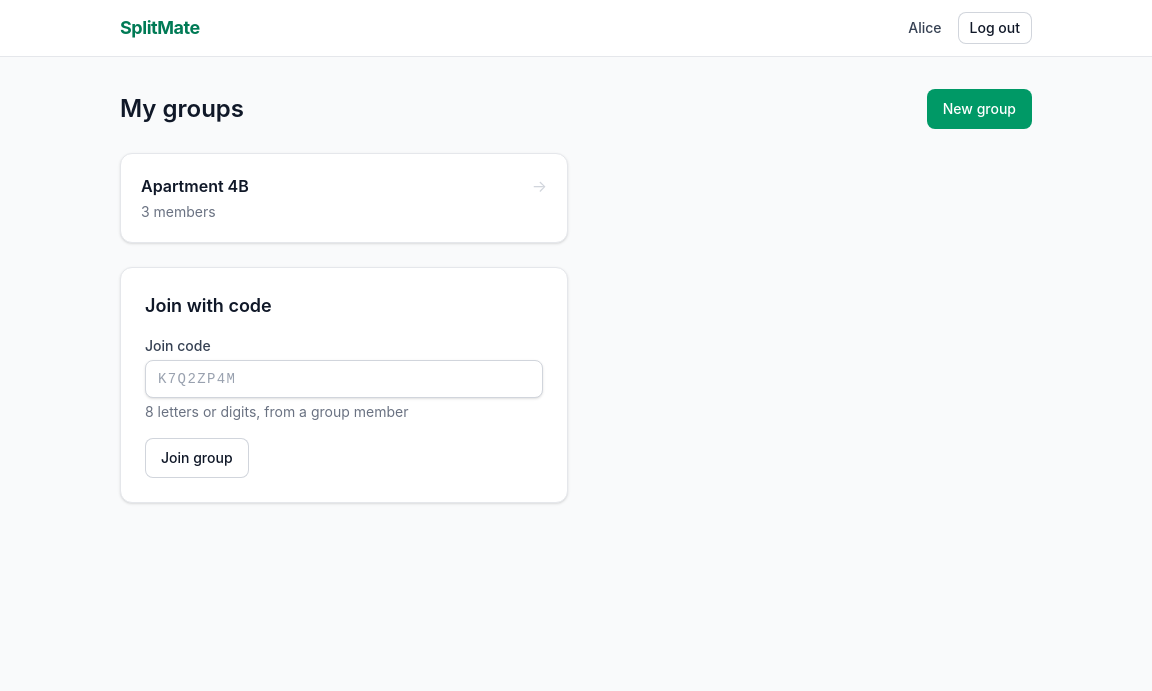
Create group › Cancel closes the form
The width and height of the screenshot is (1152, 691).
Click the button "New group": (979, 109) [927,89,1032,129]
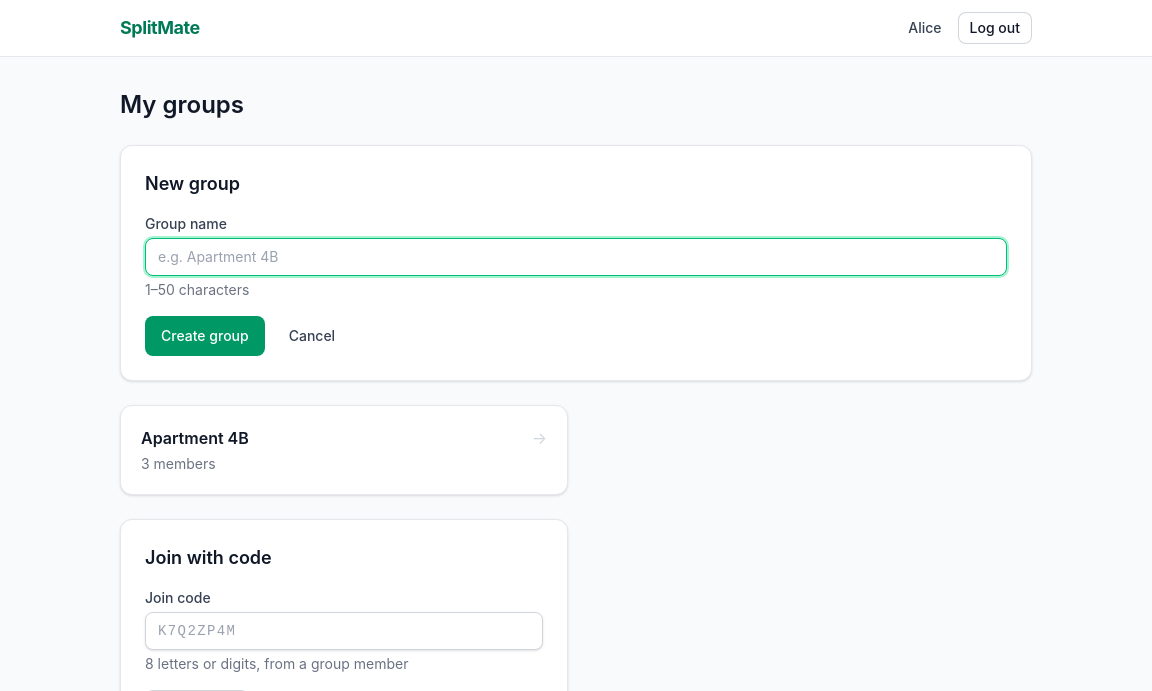
Click the button "Cancel": (312, 336) [273,316,351,356]
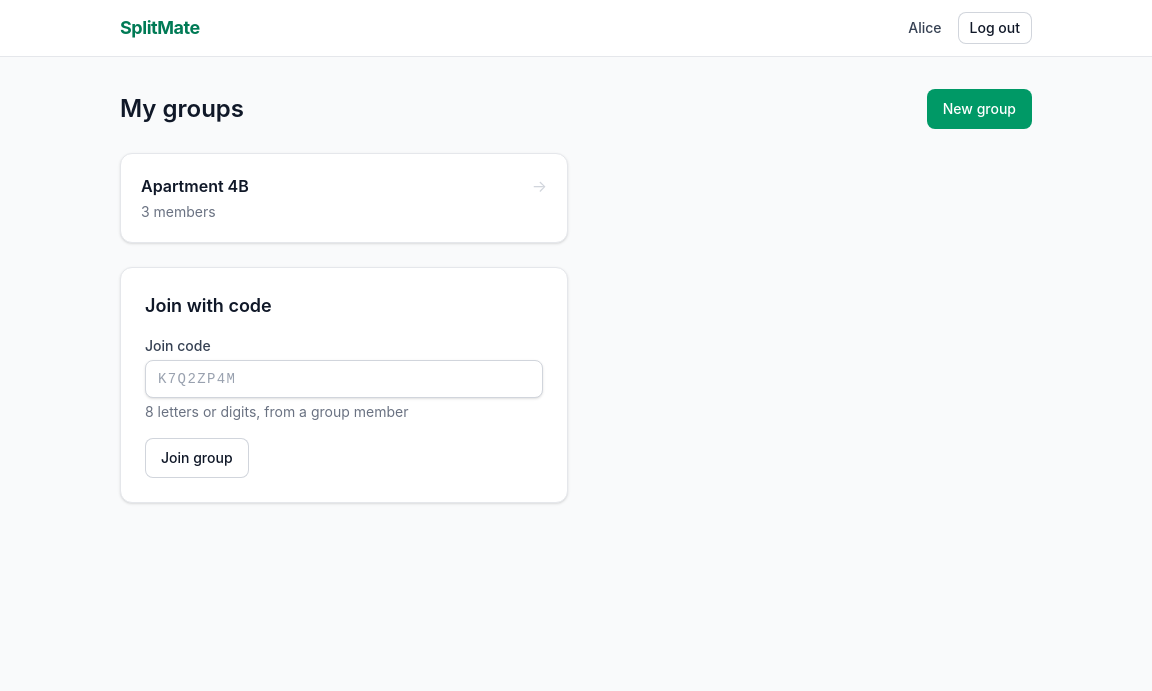
Expected: the button "New group" is shown, [927,89,1032,129]
Expected: the label labelled "Group name" is gone
